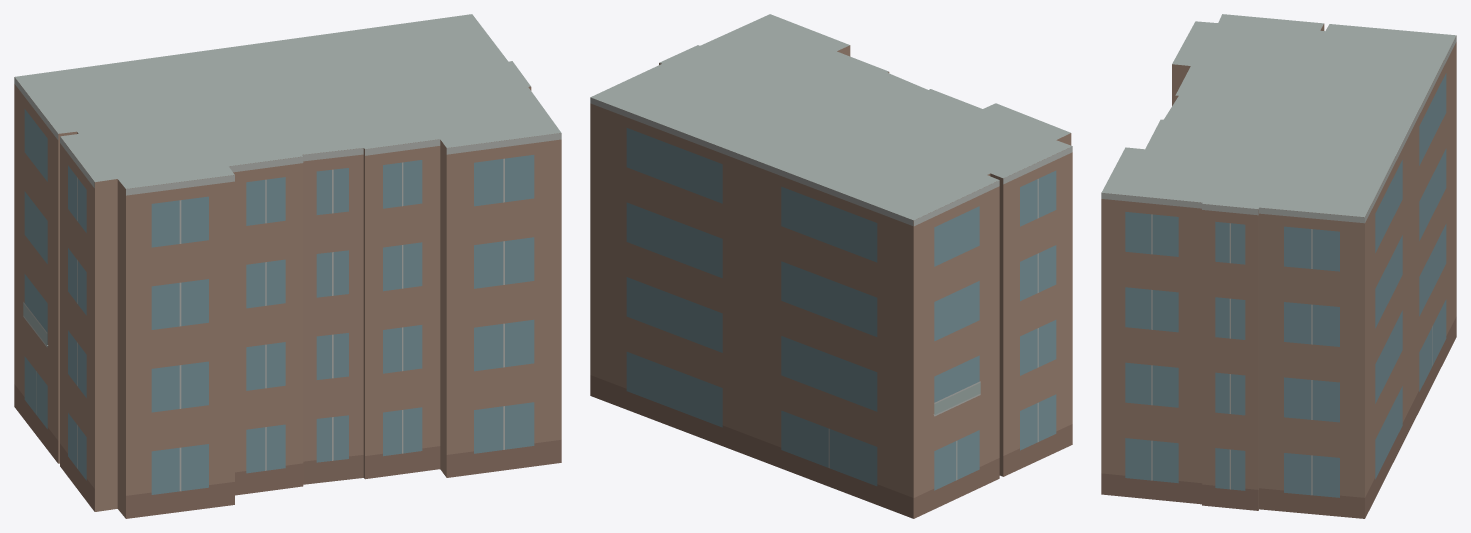
The model's file is survey-upis-32671792.glb.
The picture shows the model from 3 angles, left to right: view 1: azimuth 30°, elevation 25°; view 2: azimuth 150°, elevation 25°; view 3: azimuth 270°, elevation 25°; orthographic projection. The views are drawn at different scales.
Parts seen in each view (by area): view 1: survey-upis-32671792.tmp; view 2: survey-upis-32671792.tmp; view 3: survey-upis-32671792.tmp.
Boxes of the visible parts, x1,y1,x2,y2 form: survey-upis-32671792.tmp: (14, 14, 561, 518); survey-upis-32671792.tmp: (590, 14, 1072, 518); survey-upis-32671792.tmp: (1101, 14, 1456, 518).
Bounding box in the file's own units: 17.49 × 12.1 × 12.92.
